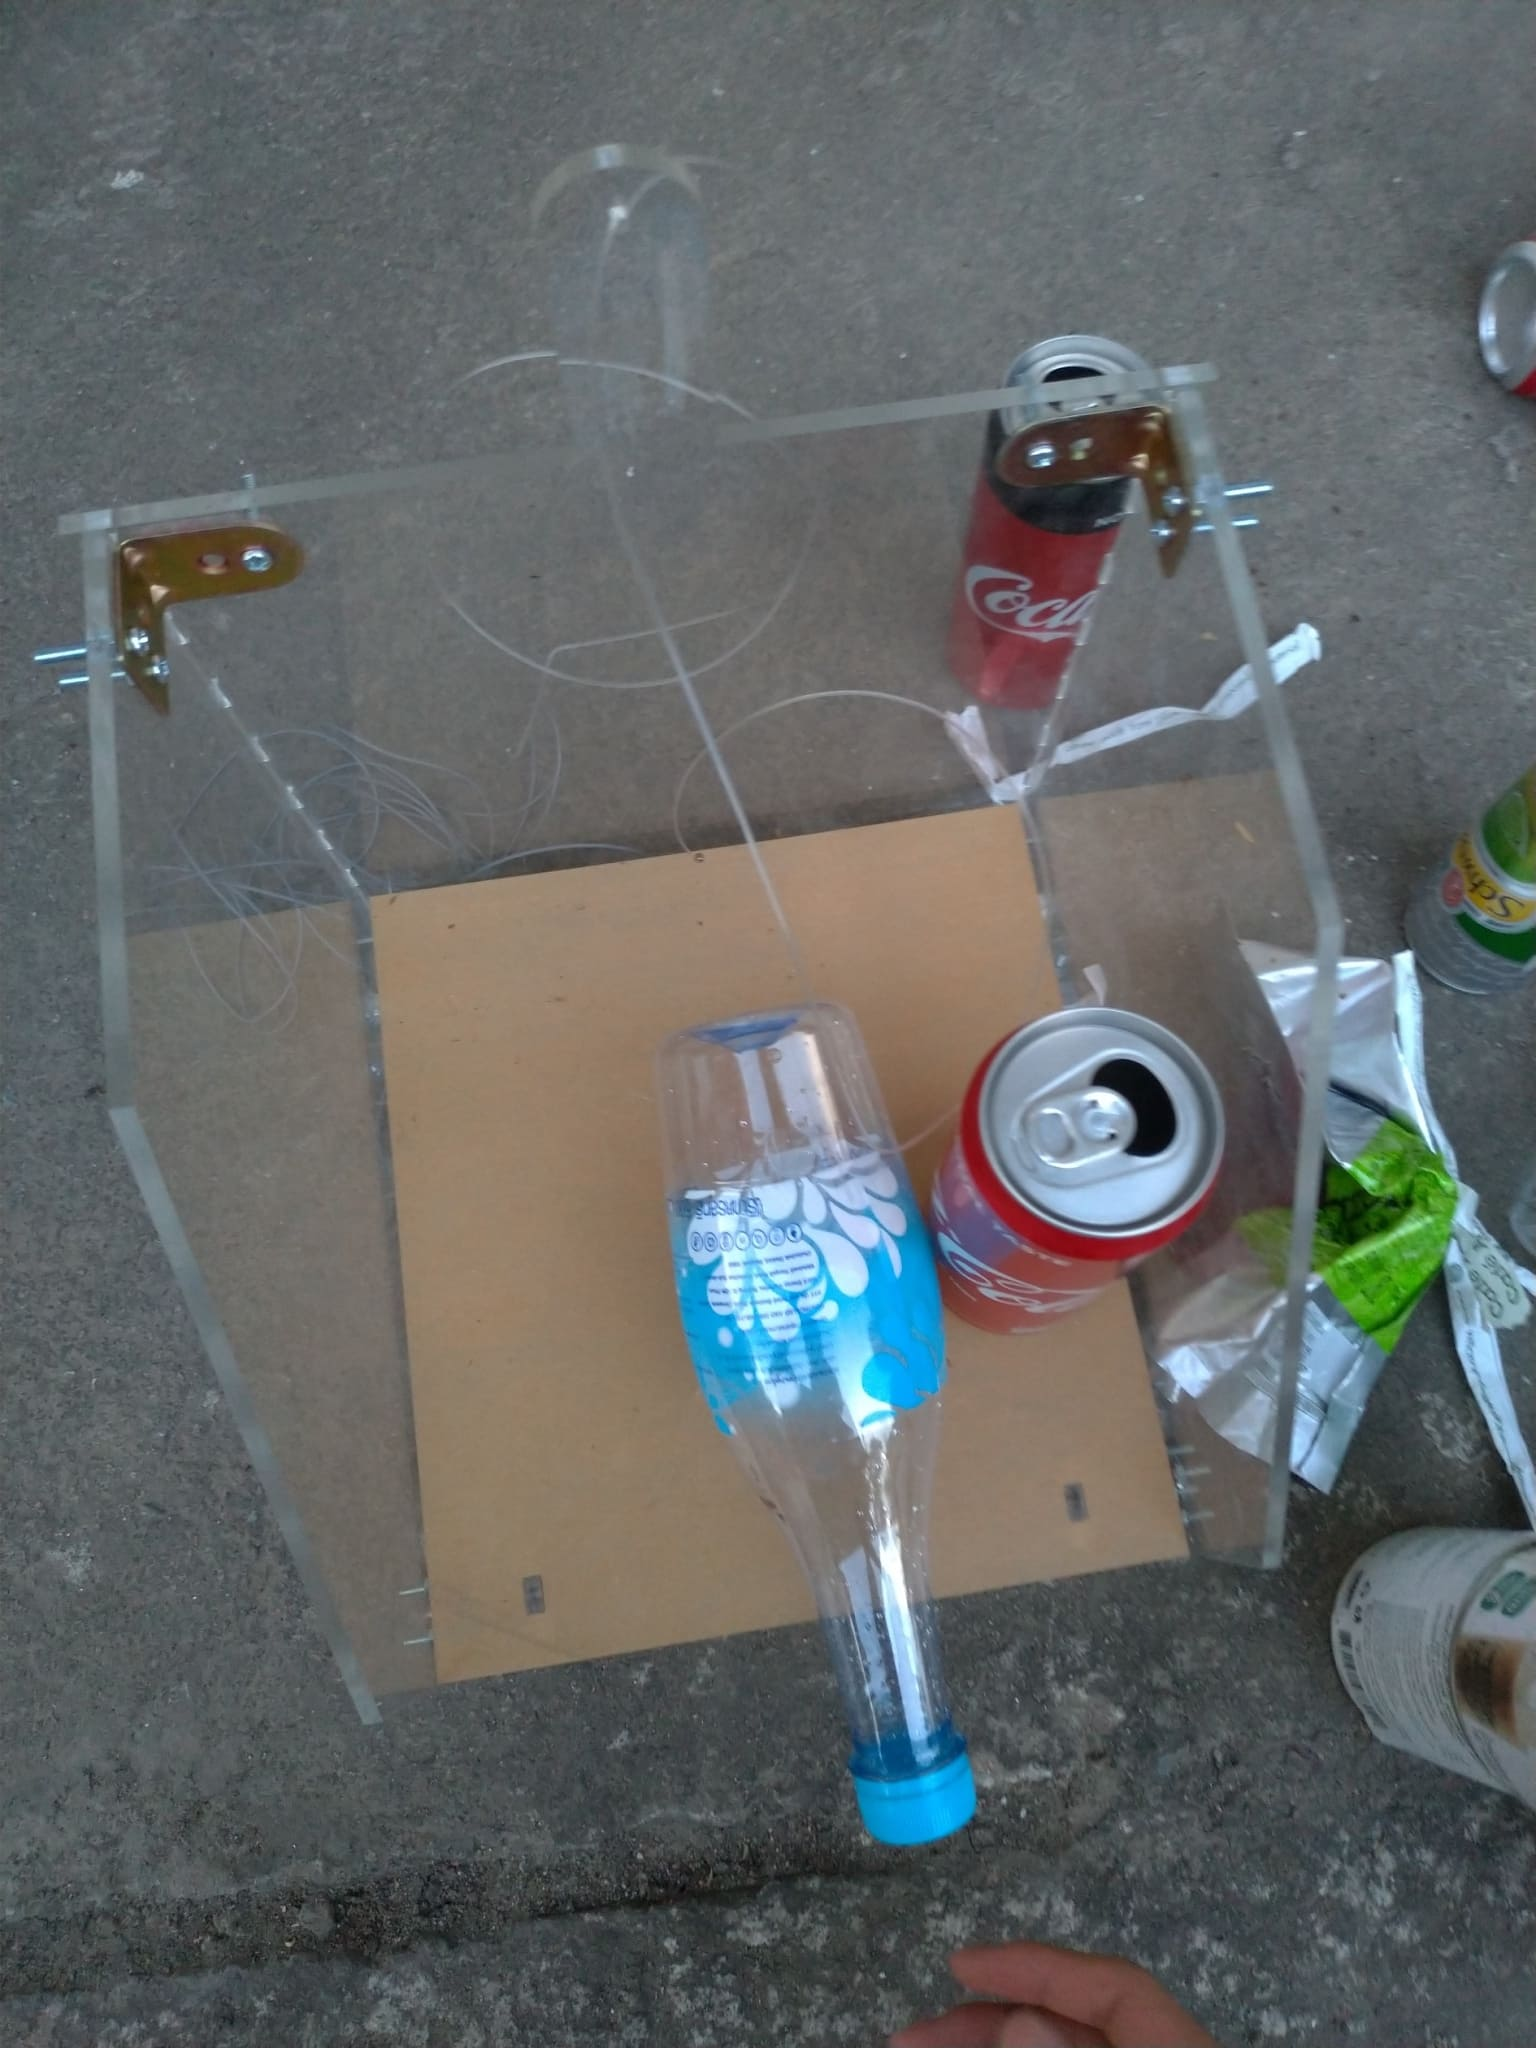AlCan: (929, 1001, 1225, 1334), (941, 331, 1157, 708), (1329, 1522, 1533, 1811), (1404, 751, 1536, 997)
Others: (1163, 939, 1518, 1508)
PlasticBottle: (666, 998, 983, 1848)
